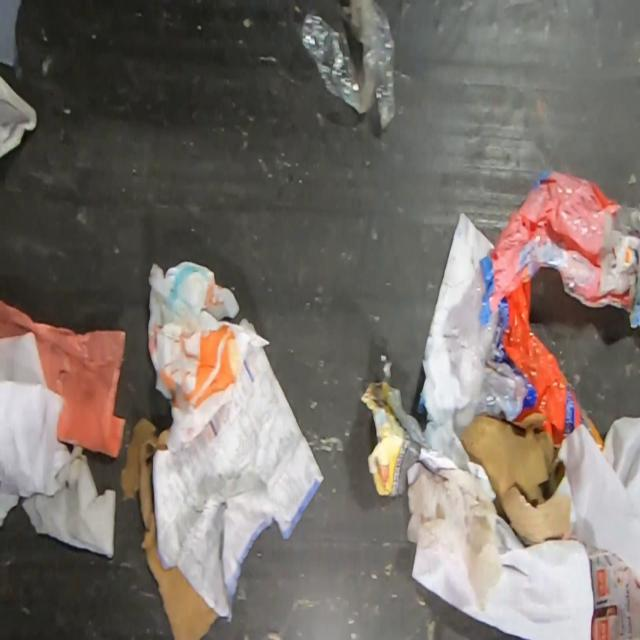cardboard: (118, 418, 220, 639), (459, 412, 571, 548)
soft_plastic: (469, 166, 631, 454), (297, 0, 401, 129), (0, 0, 24, 72)
